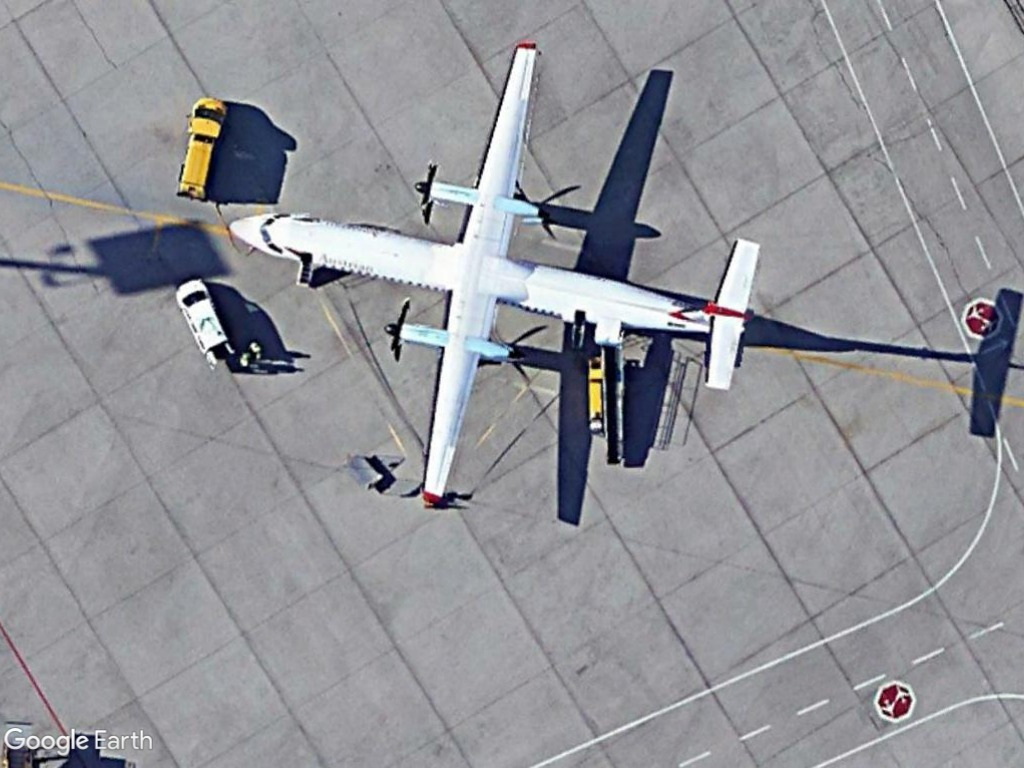others: (173, 93, 230, 201)
propeller: (222, 37, 766, 511)
van: (171, 275, 230, 354)
